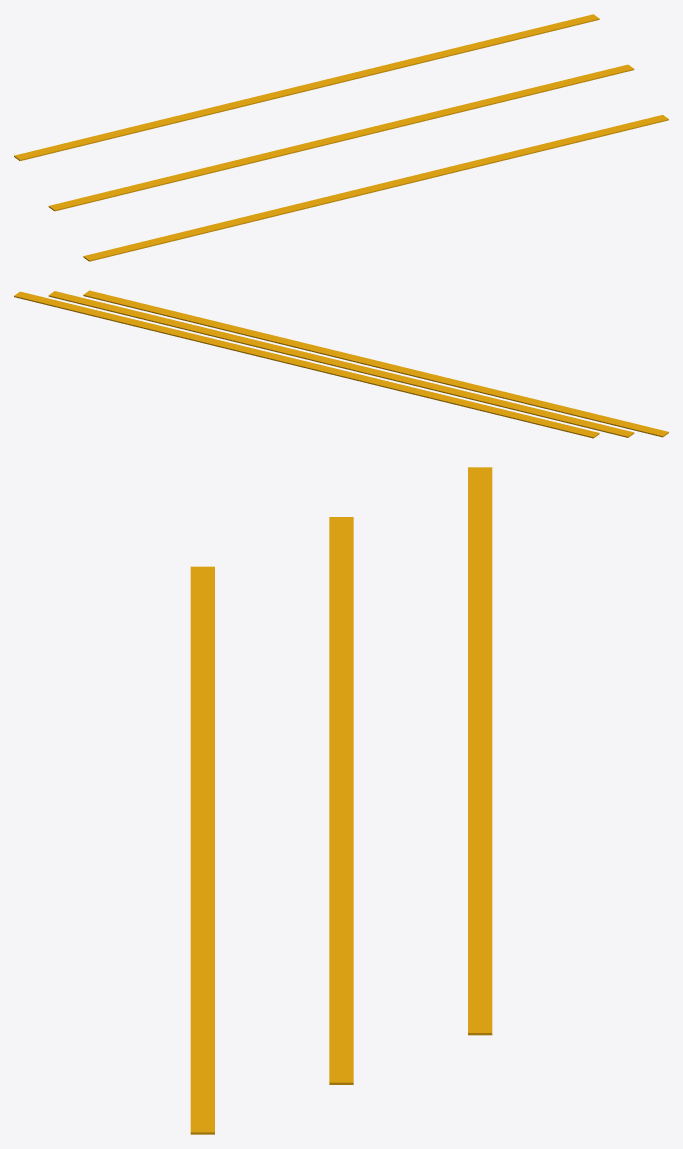
Rendered from gteki_ik_stair_n3_r125_t316_w3065_nosing.glb.
The picture shows the model from 3 angles, top to bottom: view 1: azimuth 30°, elevation 25°; view 2: azimuth 150°, elevation 25°; view 3: azimuth 270°, elevation 25°; orthographic projection. The views are drawn at different scales.
Parts seen in each view (by area): view 1: VIS_body; view 2: VIS_body; view 3: VIS_body.
Part boxes in pixels (<box>): VIS_body: <box>14,14,668,261</box>; VIS_body: <box>14,290,668,438</box>; VIS_body: <box>190,467,492,1134</box>.
Size of the model in its own units: 3.05 by 0.256 by 0.687.
1 material, 1 textured.
